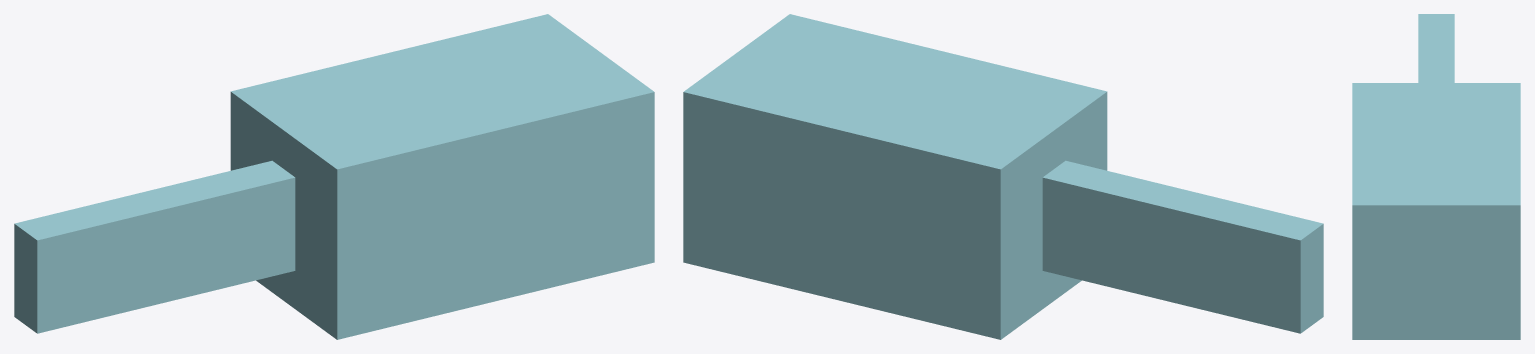
File: cuboid_brush_v8003.obj
3 views of the same model, side by side, from view 1: azimuth 30°, elevation 25°; view 2: azimuth 150°, elevation 25°; view 3: azimuth 270°, elevation 25° (orthographic). The views are drawn at different scales.
Bounding box in the file's own units: 0.1735 × 0.0491 × 0.0556.
1 material, 1 textured.
